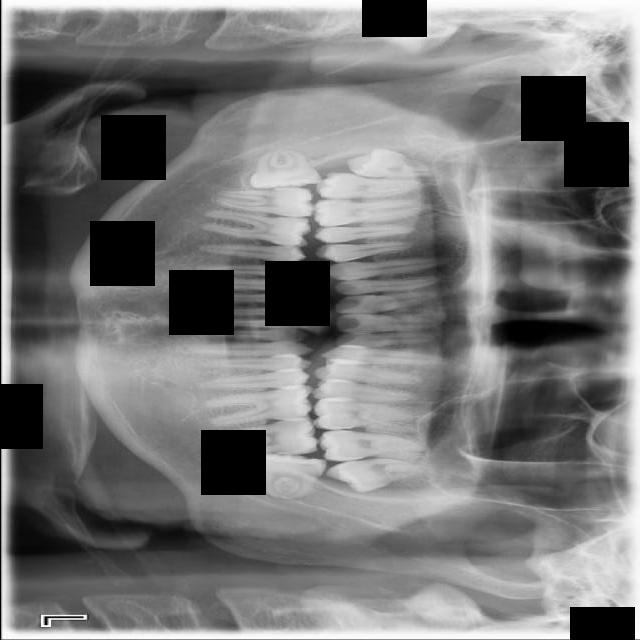3M ESPE Implant: (346, 147, 438, 181)
73: (19, 624, 27, 635)
BioHorizons Implant: (318, 430, 426, 462)
BioLife Implant: (325, 455, 438, 494)
Biomet 3i Implant: (248, 448, 328, 504)
Blue Sky Bio Implant: (212, 417, 319, 459)
Caries: (318, 174, 432, 199)
Implant: (215, 187, 314, 217)
Keystone Dental Implant: (247, 146, 322, 191)
